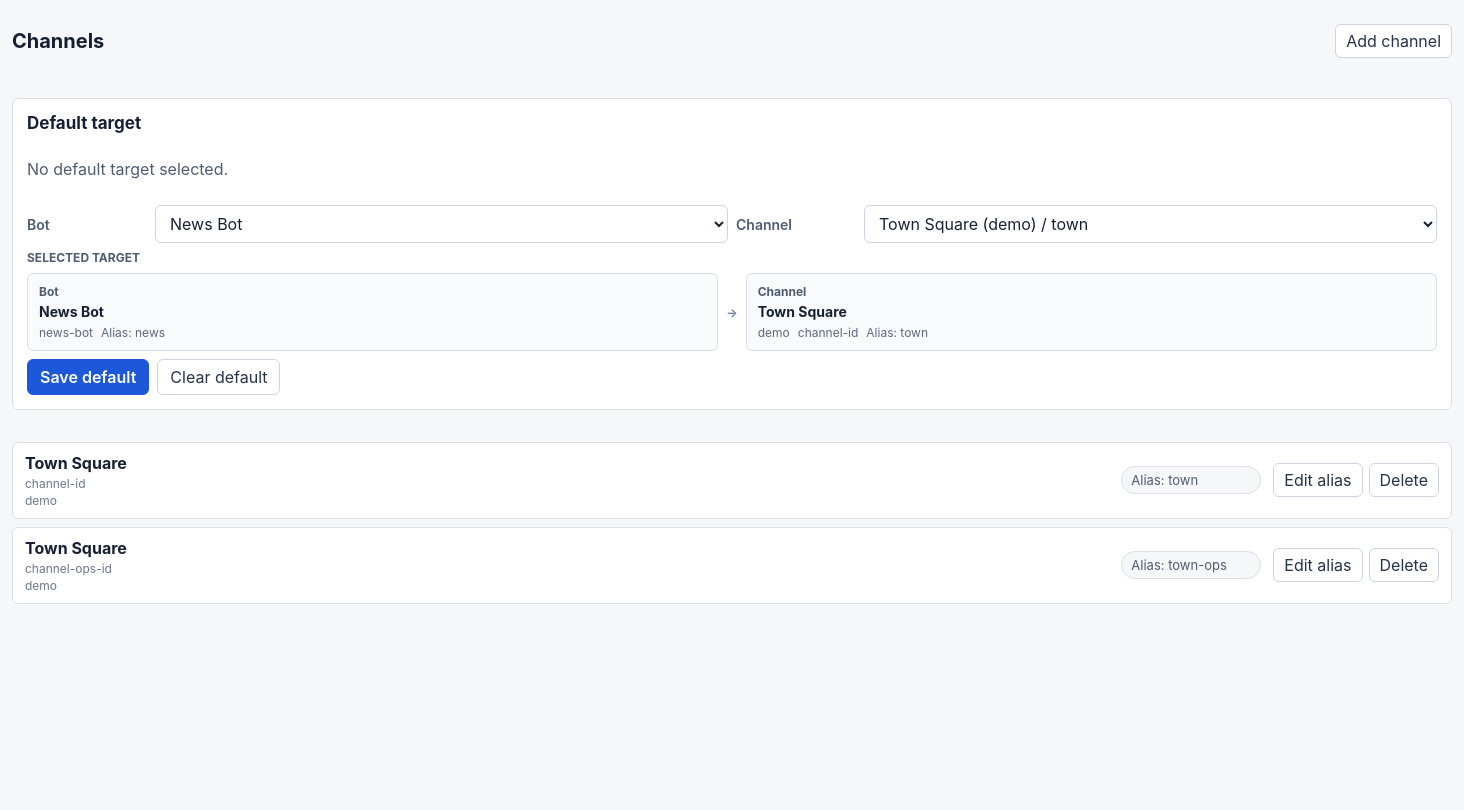
Test: TargetsPage › sets and clears the default target
Expected: the text "No default target selected." is shown, x1=27 y1=159 x2=228 y2=179
Select "News Bot" in the dropdown labelled "Bot" at (442, 224), box x1=155 y1=205 x2=728 y2=243
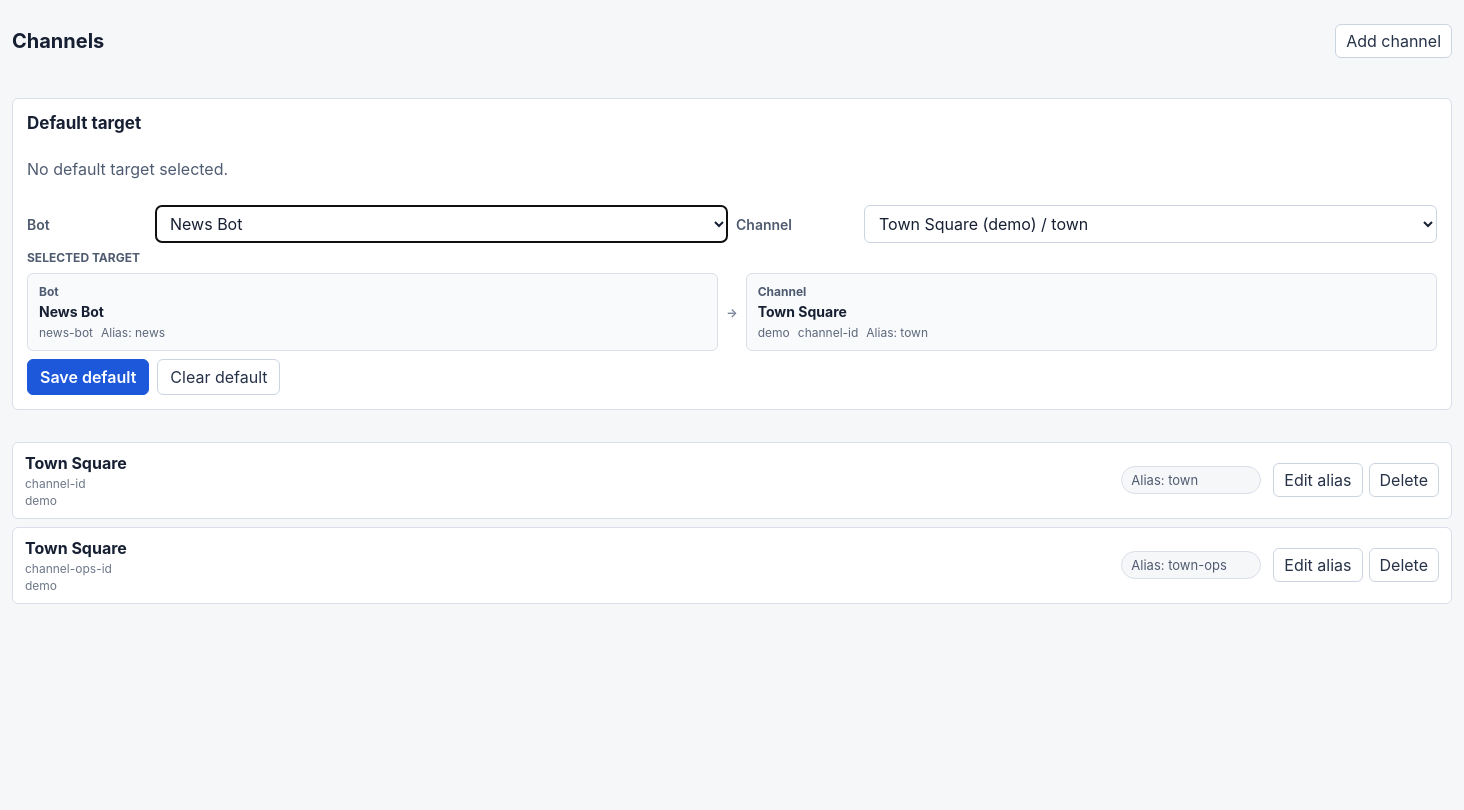
Select "Town Square (demo) / town" in the dropdown labelled "Channel" at (1150, 224), box x1=864 y1=205 x2=1437 y2=243
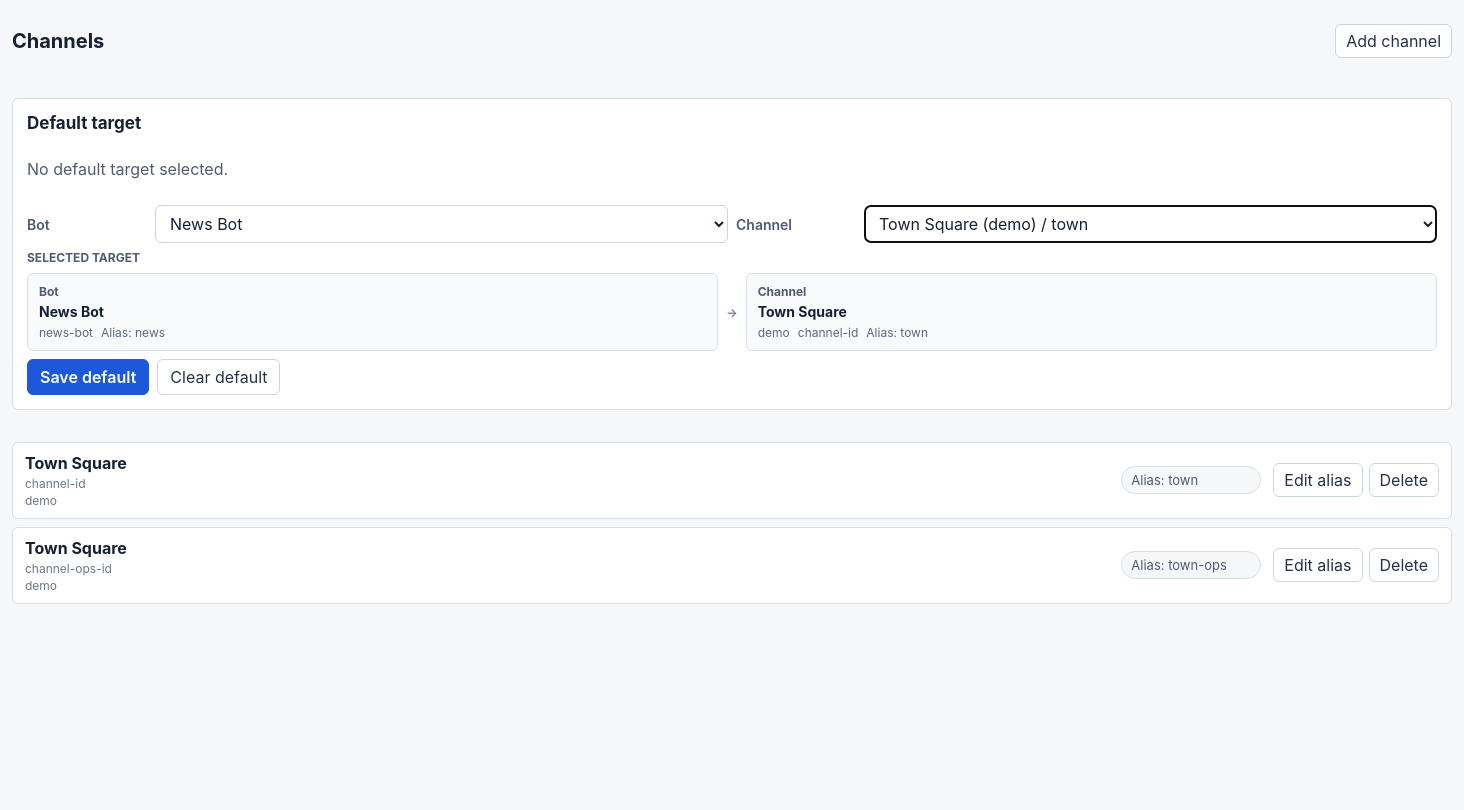
Click the button "Save default" at (88, 377), box x1=27 y1=359 x2=149 y2=395
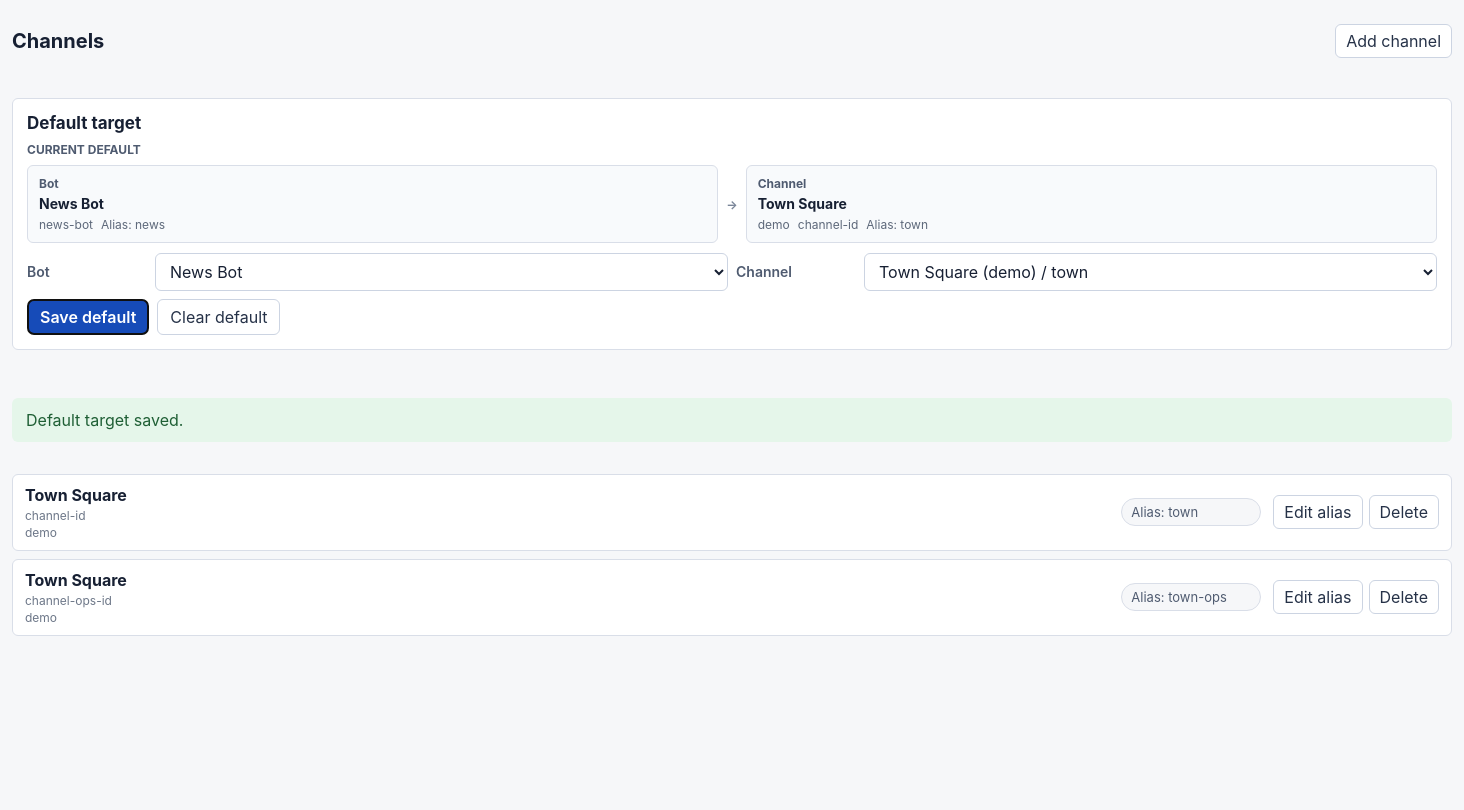
Expected: the text "News Bot" is shown, x1=39 y1=195 x2=104 y2=212
Result: the text "Current default" is shown at x1=27 y1=142 x2=141 y2=157
Result: the message reads "Default target saved." at x1=26 y1=410 x2=183 y2=430
Click the button "Clear default" at (219, 317), box x1=157 y1=299 x2=280 y2=335
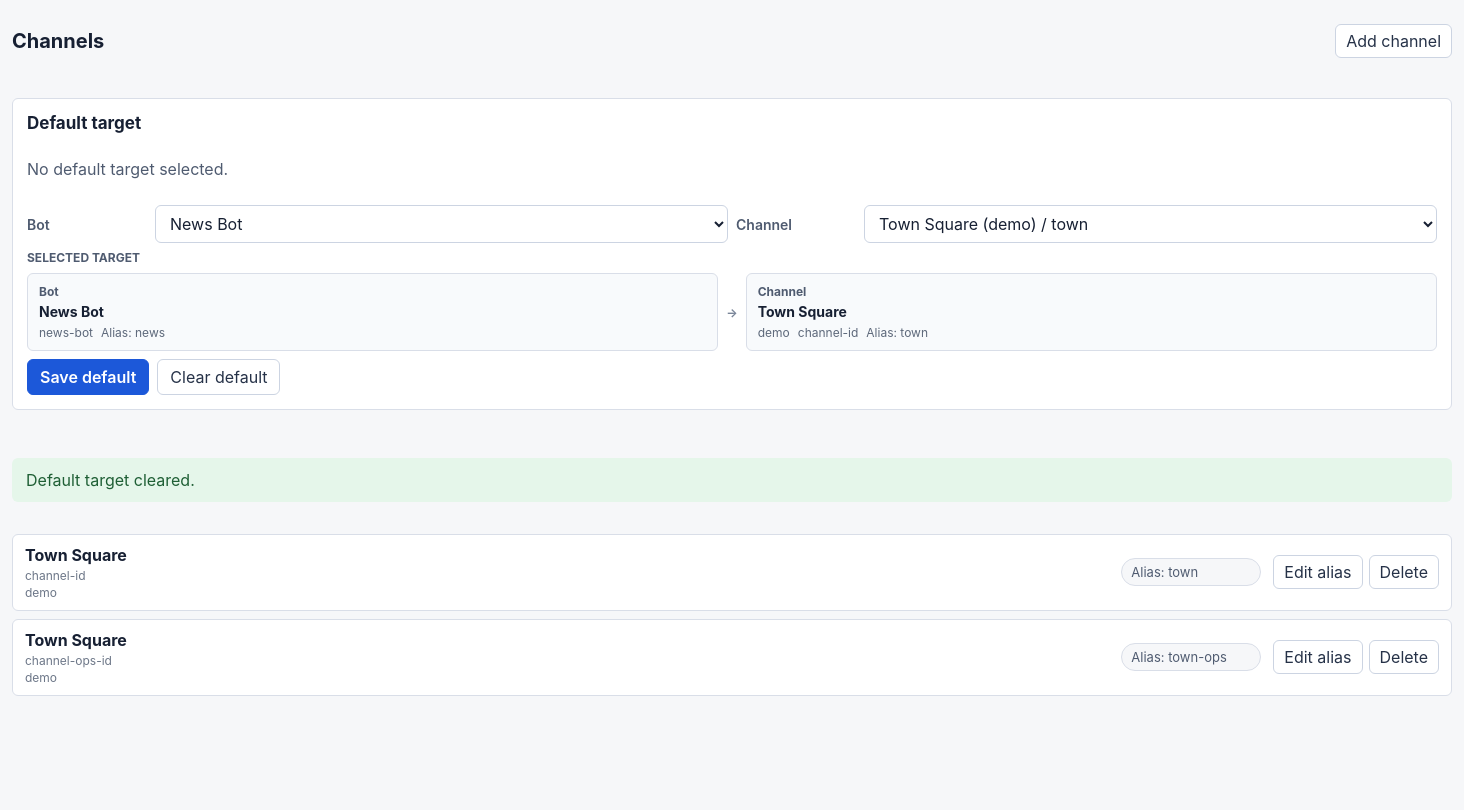
Result: the text "No default target selected." is shown at x1=27 y1=159 x2=228 y2=179
Result: the message reads "Default target cleared." at x1=26 y1=470 x2=195 y2=490
